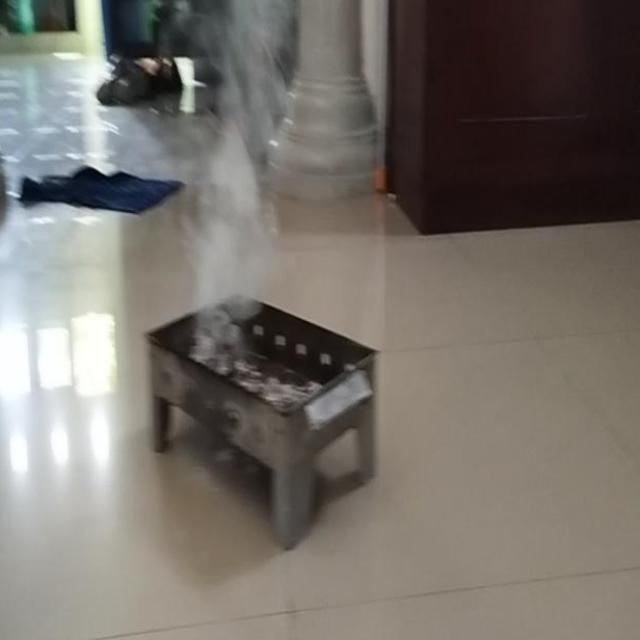fire: (189, 0, 296, 322)
